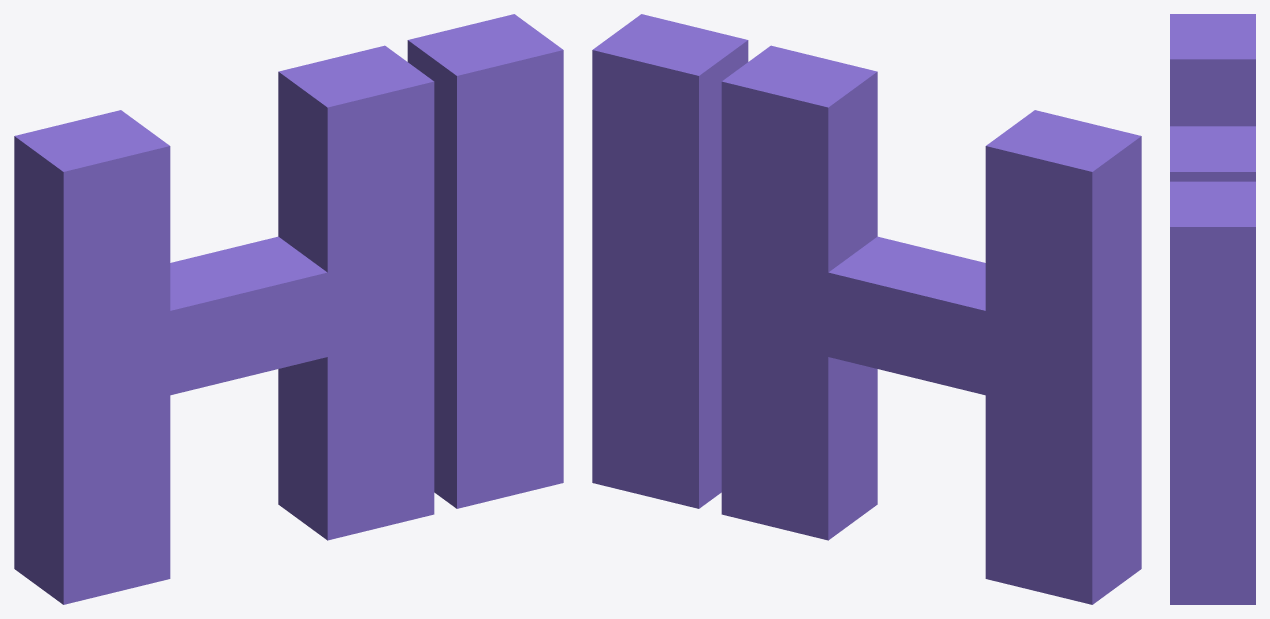
The model's file is suku_besar_hi.glb.
The picture shows the model from 3 angles, left to right: view 1: azimuth 30°, elevation 25°; view 2: azimuth 150°, elevation 25°; view 3: azimuth 270°, elevation 25°; orthographic projection. The views are drawn at different scales.
Parts seen in each view (by area): view 1: geometry_0; view 2: geometry_0; view 3: geometry_0.
Part boxes in pixels (x1,y1,x2,y2): geometry_0: (14,14,563,604); geometry_0: (592,14,1141,604); geometry_0: (1170,14,1255,604).
Size of the model in its own units: 8.81 by 7.29 by 1.5.
